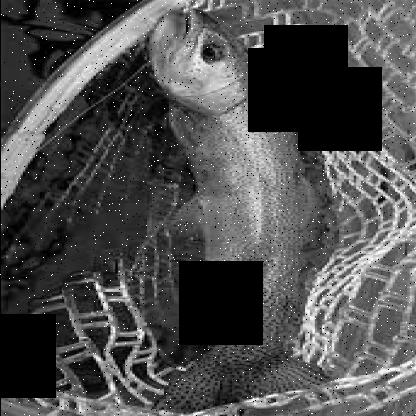fish: (144, 7, 330, 411)
